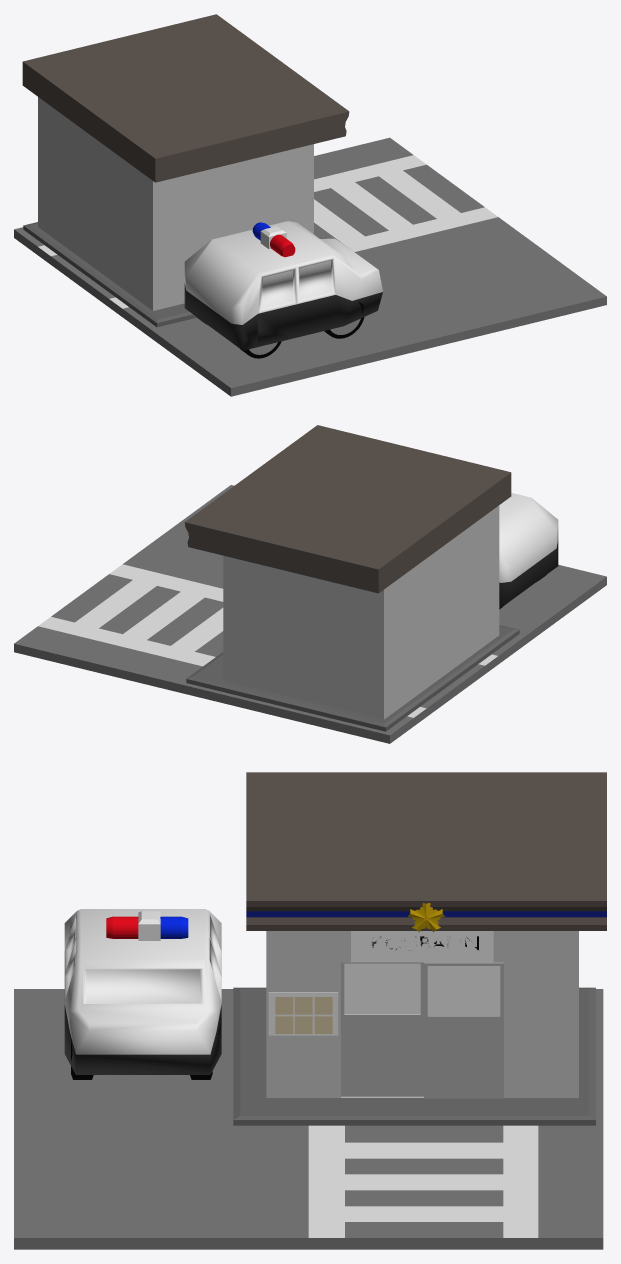
3 renders of one model, top to bottom at view 1: azimuth 30°, elevation 25°; view 2: azimuth 150°, elevation 25°; view 3: azimuth 270°, elevation 25°, orthographic. The views are drawn at different scales.
Parts seen in each view (by area): view 1: grand, main1, main2, car, Cube.001, Cylinder; view 2: main2, main1, grand, car, Cube.001; view 3: grand, main1, main2, car, Cube.001, 看板, Cylinder, lists, Cube, Cylinder.001.
Boxes of the visible parts, x1=… form: grand: x1=14, y1=137, x2=606, y2=396; main1: x1=22, y1=14, x2=349, y2=182; main2: x1=38, y1=97, x2=313, y2=310; car: x1=184, y1=221, x2=382, y2=350; Cube.001: x1=23, y1=222, x2=196, y2=327; Cylinder: x1=252, y1=222, x2=295, y2=257; main2: x1=223, y1=505, x2=499, y2=719; main1: x1=184, y1=425, x2=511, y2=593; grand: x1=14, y1=485, x2=606, y2=743; car: x1=499, y1=493, x2=558, y2=608; Cube.001: x1=186, y1=625, x2=519, y2=731; grand: x1=14, y1=989, x2=603, y2=1249; main1: x1=246, y1=772, x2=606, y2=930; main2: x1=266, y1=931, x2=578, y2=1098; car: x1=64, y1=909, x2=221, y2=1074; Cube.001: x1=233, y1=987, x2=595, y2=1125; 看板: x1=351, y1=931, x2=493, y2=962; Cylinder: x1=106, y1=916, x2=188, y2=938; lists: x1=268, y1=992, x2=338, y2=1035; Cube: x1=138, y1=911, x2=160, y2=940; Cylinder.001: x1=408, y1=902, x2=444, y2=932.
Size of the model in its own units: 1500 by 659 by 1509.
